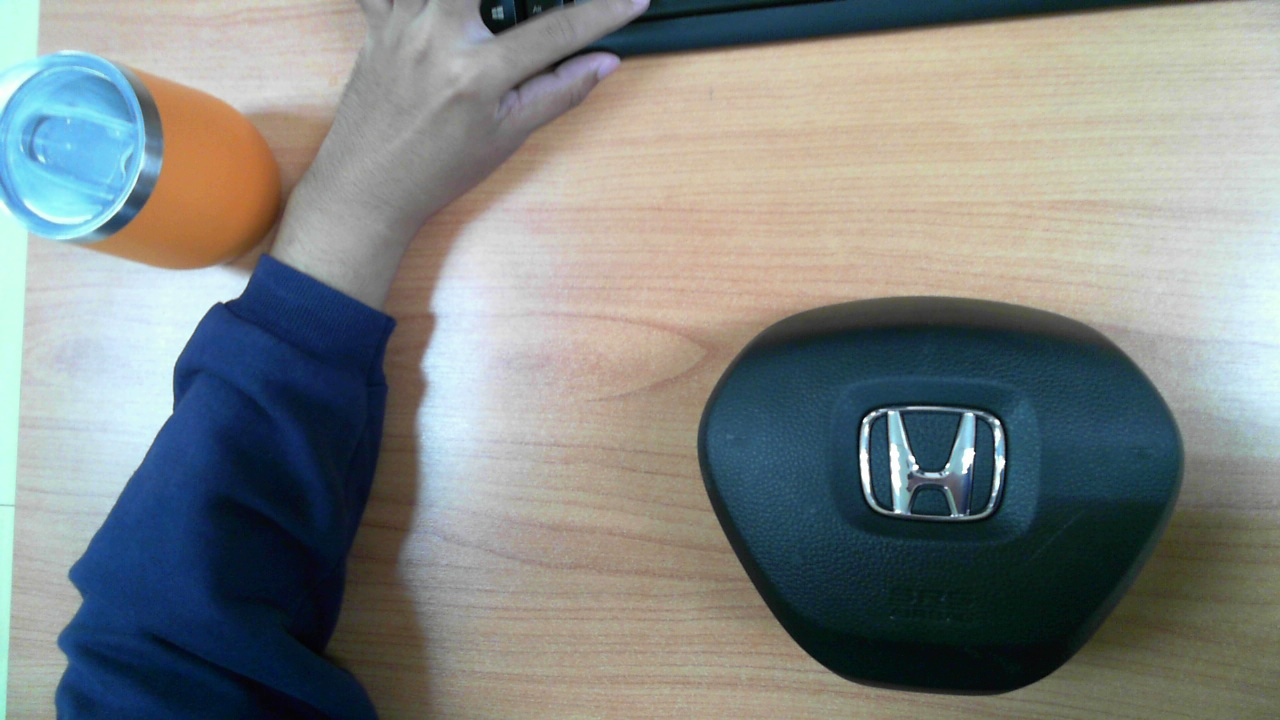Airbag: (699, 294, 1186, 696)
